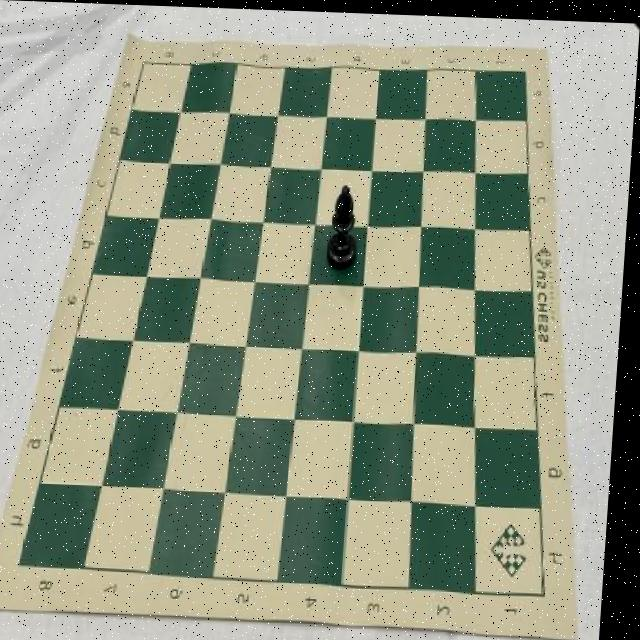bishop: (327, 182, 363, 268)
